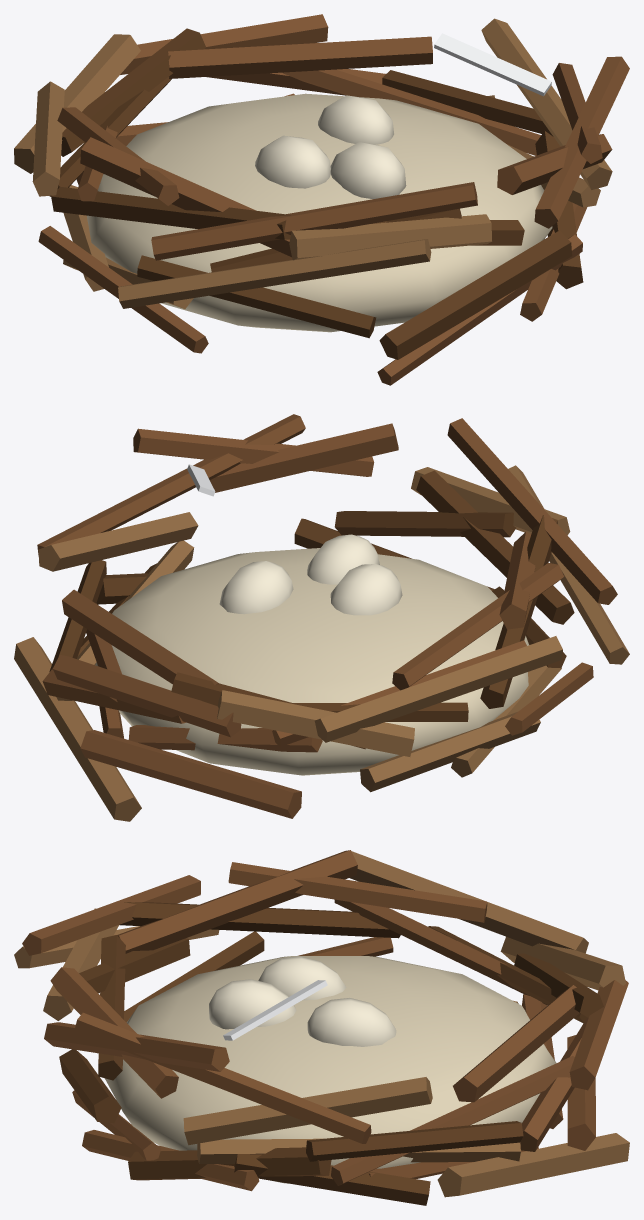
The model's file is gull_nest.glb.
3 renders of one model, top to bottom at view 1: azimuth 30°, elevation 25°; view 2: azimuth 150°, elevation 25°; view 3: azimuth 270°, elevation 25°, orthographic. The views are drawn at different scales.
Visible parts, largest first — view 1: gull_nest_body; view 2: gull_nest_body; view 3: gull_nest_body.
Boxes of the visible parts, bbox=[...] form: gull_nest_body: bbox=[14, 14, 629, 385]; gull_nest_body: bbox=[14, 414, 629, 821]; gull_nest_body: bbox=[14, 850, 629, 1205].
Bounding box in the file's own units: 1.11 × 0.4384 × 1.12.
